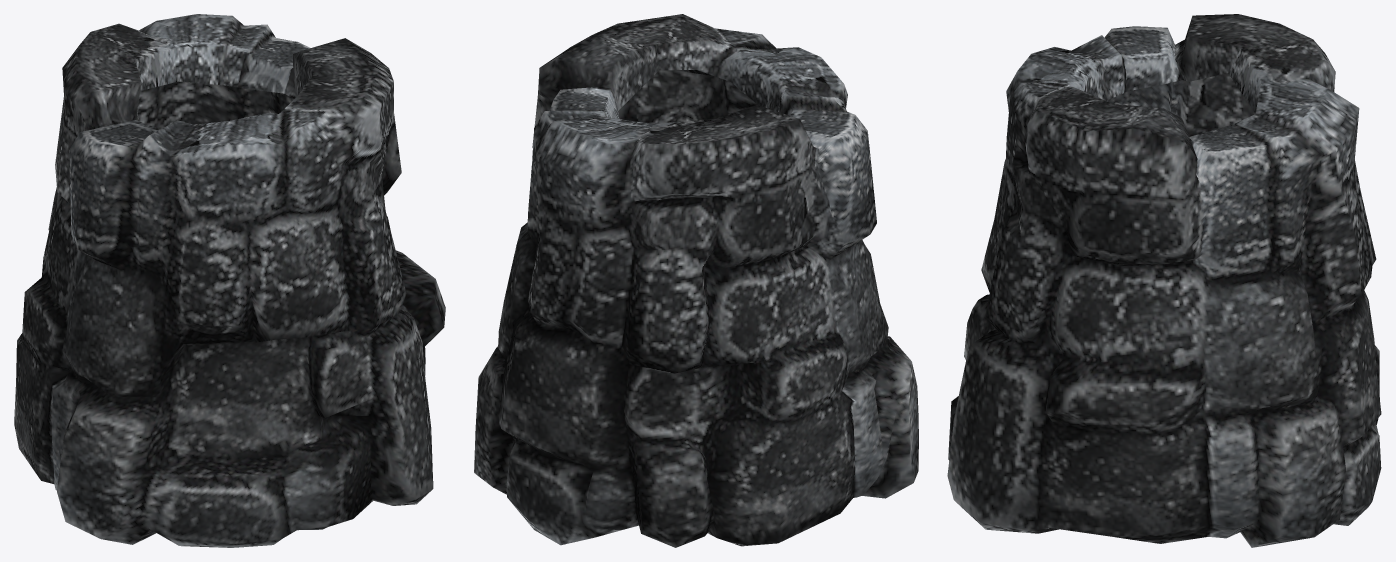
The model's file is Stone Column.FBX.
3 views of the same model, side by side, from view 1: azimuth 30°, elevation 25°; view 2: azimuth 150°, elevation 25°; view 3: azimuth 270°, elevation 25° (orthographic). The views are drawn at different scales.
Parts seen in each view (by area): view 1: Stone Column Taper; view 2: Stone Column Taper; view 3: Stone Column Taper.
Part boxes in pixels (bbox=[...]): Stone Column Taper: bbox=[14, 14, 445, 547]; Stone Column Taper: bbox=[474, 14, 918, 547]; Stone Column Taper: bbox=[947, 14, 1381, 547].
Bounding box in the file's own units: 143 × 141 × 150.
1 material, 1 textured.
